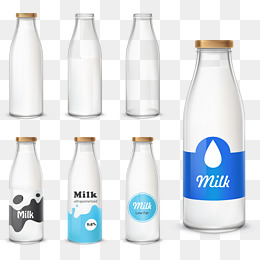glass of milk: (180, 30, 247, 239), (123, 137, 164, 245), (10, 7, 46, 124), (68, 133, 102, 247), (11, 137, 44, 245)
